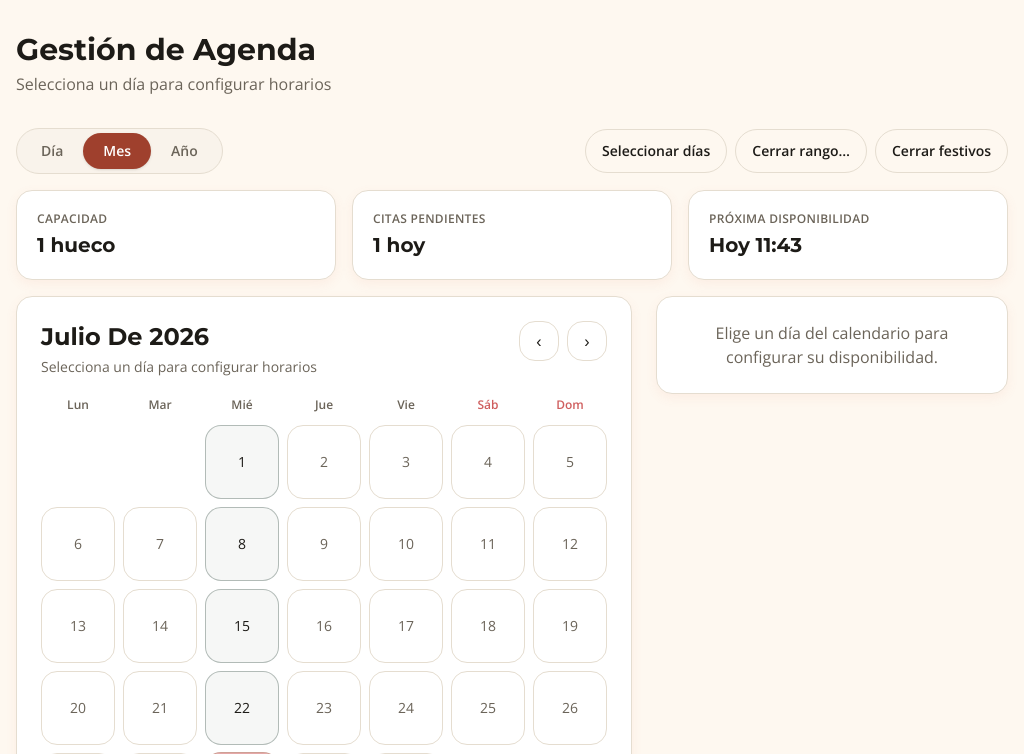
Test case: Agenda de disponibilidad de la protectora › carga las plantillas de la protectora y las muestra en el modo selección
What coordinates should you click on to do the following:
click the button "Seleccionar días"
I would click on:
 (656, 151)
Its box is x1=585 y1=129 x2=727 y2=173.
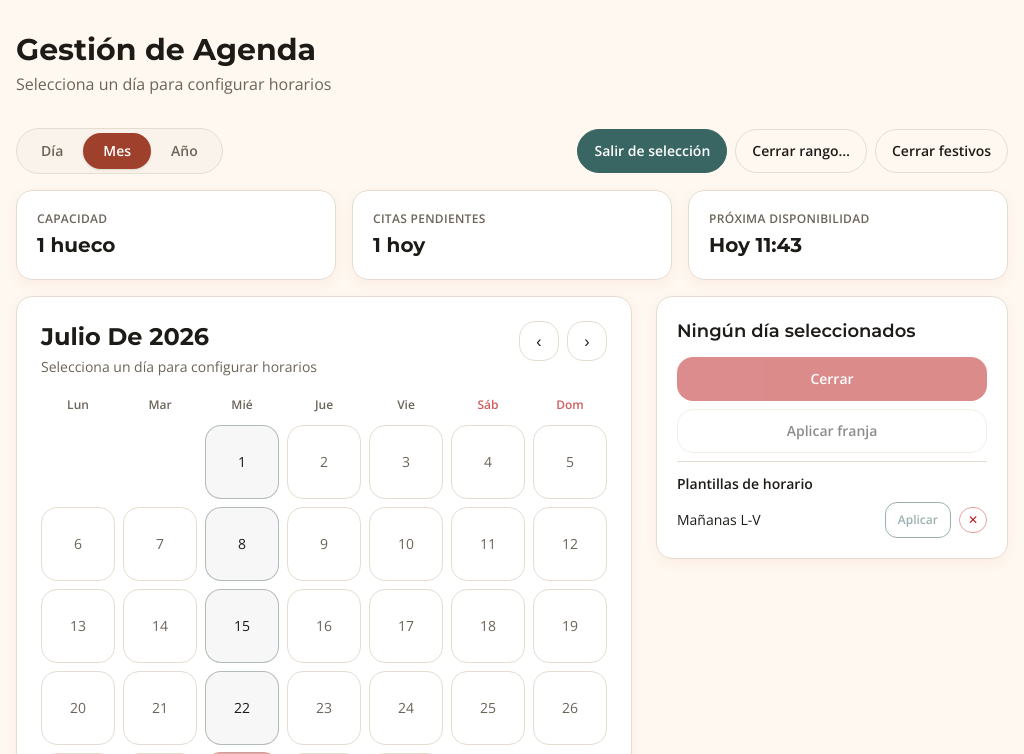
Expected: the text "Mañanas L-V" is shown, x1=677 y1=510 x2=761 y2=529
